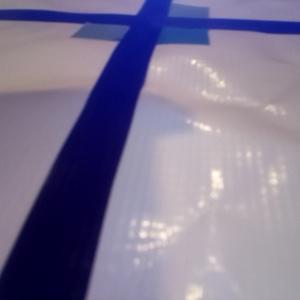bottom_left: (72, 15, 160, 41)
bottom_right: (130, 18, 209, 45)
top_right: (143, 5, 208, 27)
